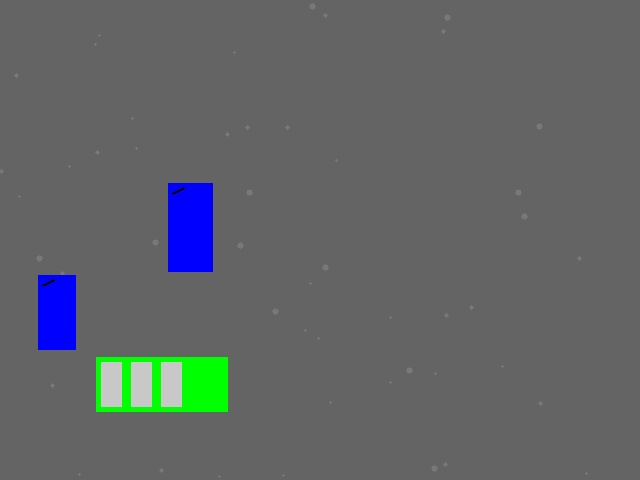bus: (96, 357, 227, 411)
motorcycle: (168, 183, 212, 271), (38, 275, 75, 349)
